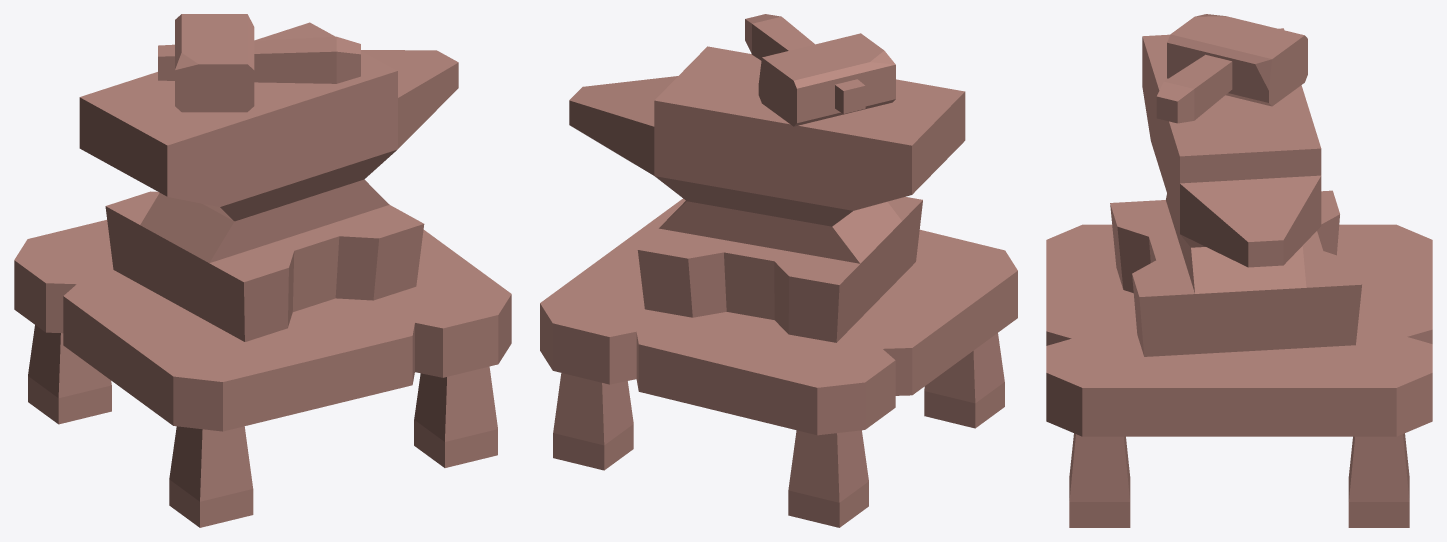
File: workbench-anvil.obj
3 renders of one model, left to right at view 1: azimuth 30°, elevation 25°; view 2: azimuth 150°, elevation 25°; view 3: azimuth 270°, elevation 25°, orthographic. The views are drawn at different scales.
Size of the model in its own units: 0.3227 by 0.3358 by 0.2957.
